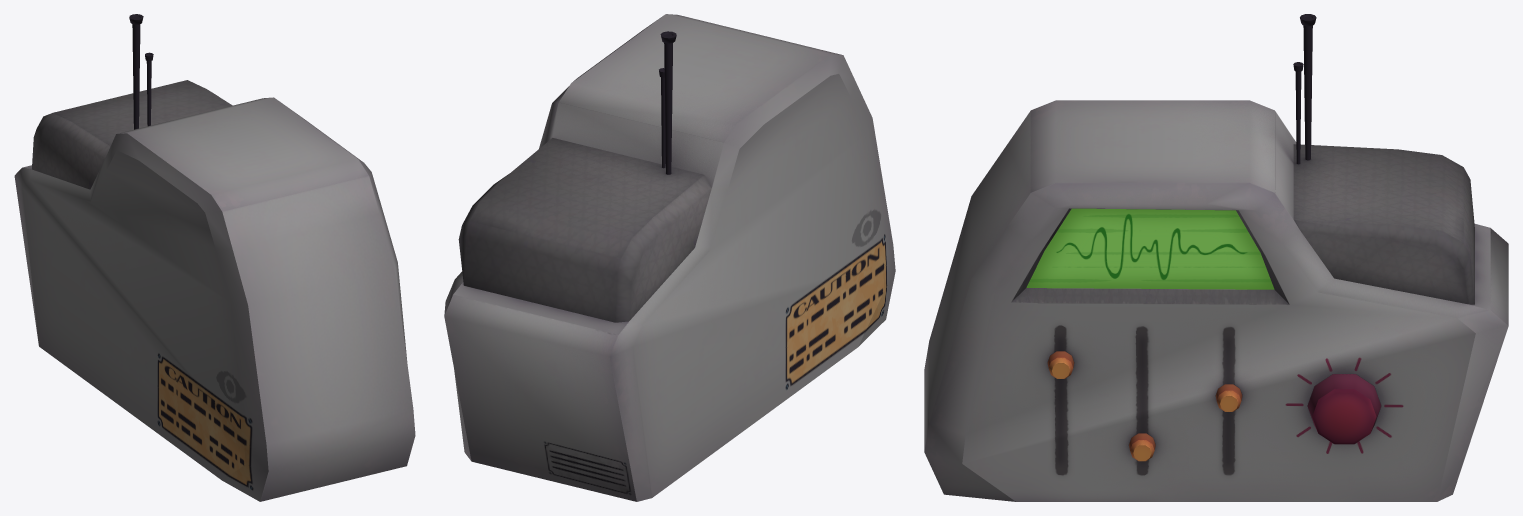
The model's file is radio.fbx.
3 renders of one model, left to right at view 1: azimuth 30°, elevation 25°; view 2: azimuth 150°, elevation 25°; view 3: azimuth 270°, elevation 25°, orthographic. The views are drawn at different scales.
Visible parts, largest first — view 1: bo.radio DONE; view 2: bo.radio DONE; view 3: bo.radio DONE.
Part boxes in pixels (left/top/right/bottom): bo.radio DONE: left=14, top=14, right=415, bottom=501; bo.radio DONE: left=444, top=14, right=895, bottom=501; bo.radio DONE: left=924, top=14, right=1508, bottom=501.
Size of the model in its own units: 15.74 by 28.92 by 36.96.
